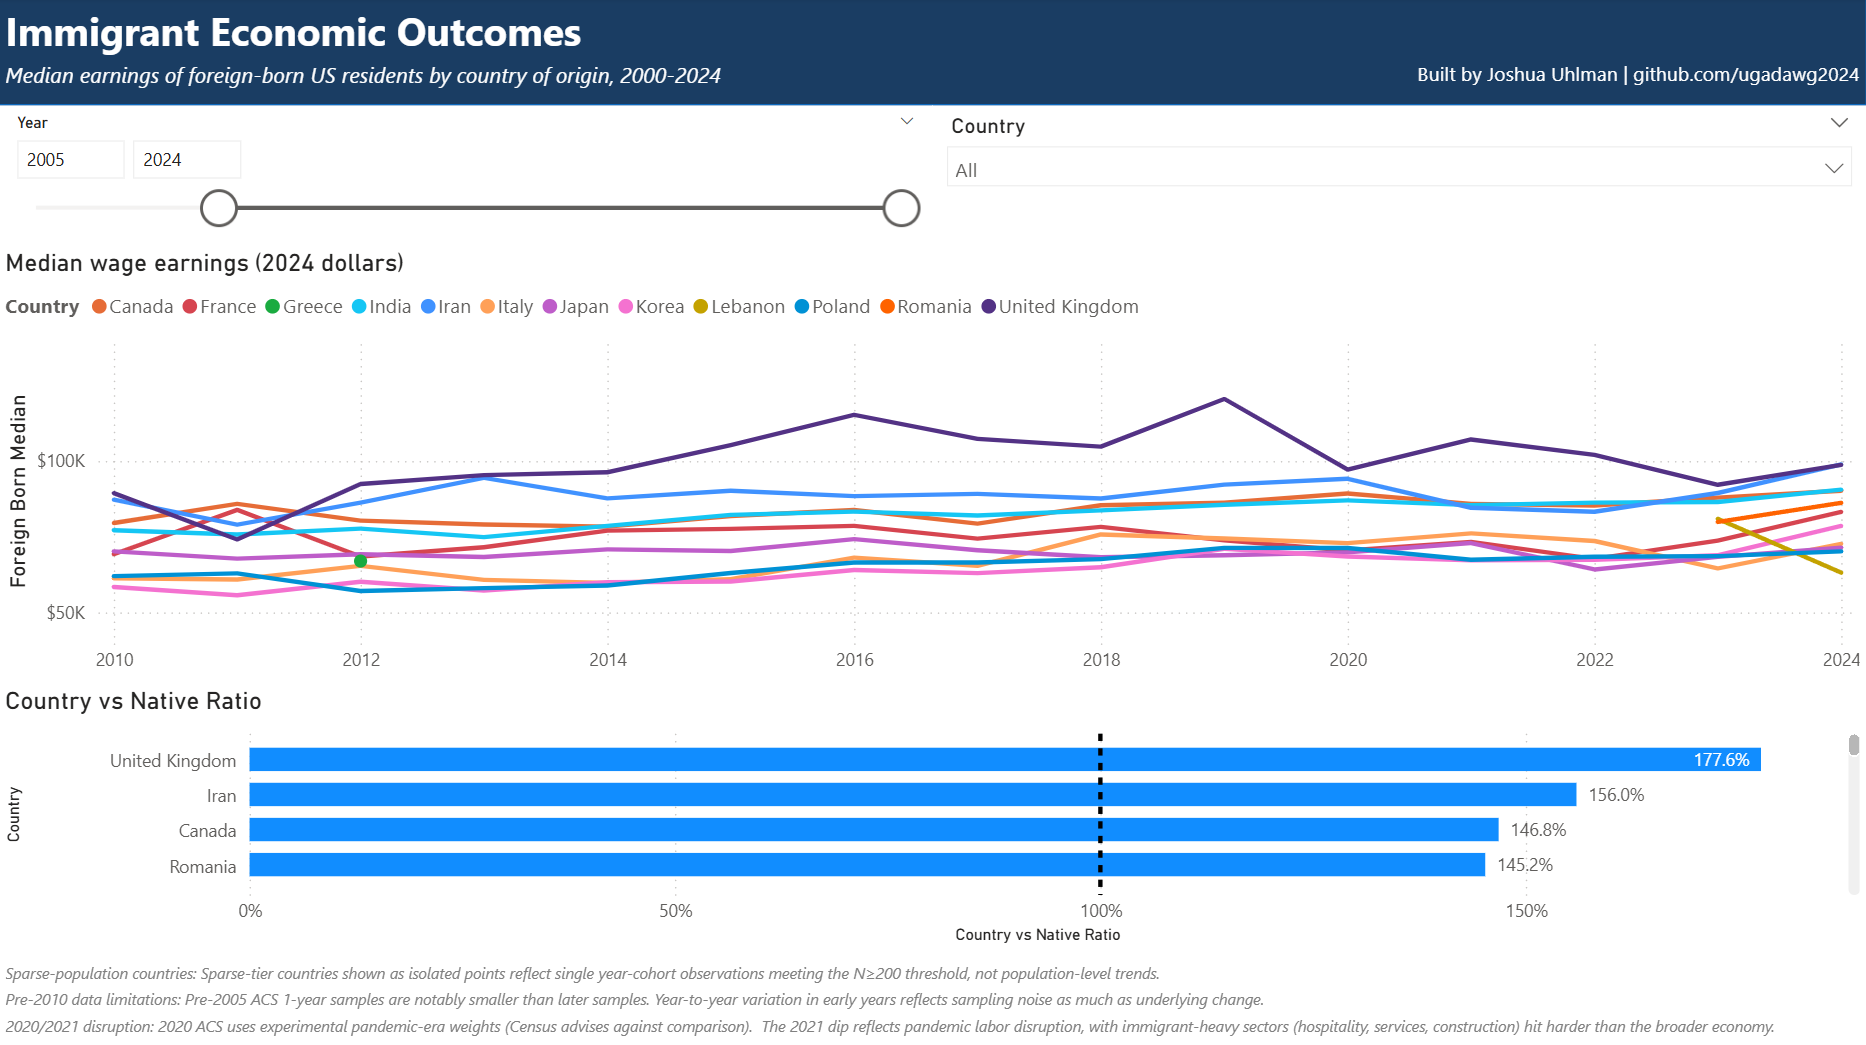

This screenshot's page, from the dashboard's own definition file:
{"tool":"powerbi","page":{"name":"Comparison","canvas":[1280,720],"ordinal":2},"visuals":[{"type":"shape","box":[0,0,1280.4,75],"z":0},{"type":"textbox","box":[0,0,505.6,47.3],"z":1000},{"type":"textbox","box":[0,38,571.4,37],"z":2000},{"type":"textbox","box":[914.6,38,365.8,37],"z":3000},{"type":"textbox","box":[0,632,1280.4,88.4],"z":4000},{"type":"slicer","title":"Country","fields":{"Values":["Countries.country_name"]},"box":[639.8,75,640.2,97.6],"z":5000},{"type":"lineChart","title":"Median wage earnings (2024 dollars)","fields":{"Category":["Date.Year"],"Series":["Countries.country_name"],"Y":["Medians.Foreign Born Median"]},"box":[0,172.6,1280.4,300.1],"z":6000},{"type":"slicer","fields":{"Values":["Date.Year"]},"box":[0,75,640.2,97.6],"z":7000},{"type":"barChart","title":"Country vs Native Ratio","fields":{"Category":["Countries.country_name"],"Y":["Medians.Country vs Native Ratio"]},"box":[0,472.7,1280.4,159.3],"z":8000}]}

Visuals, with their boxes in screenshot pixels (x1, y1, x2, y2), scaled from the page's 1280x720 canvas onto the 1866x1045 screenshot:
shape: 0/0/1865/109
textbox: 0/0/737/69
textbox: 0/55/833/109
textbox: 1333/55/1865/109
textbox: 0/917/1865/1044
"Country" slicer: 933/109/1865/251
"Median wage earnings (2024 dollars)" lineChart: 0/251/1865/686
slicer - Date.Year: 0/109/933/251
"Country vs Native Ratio" barChart: 0/686/1865/917
